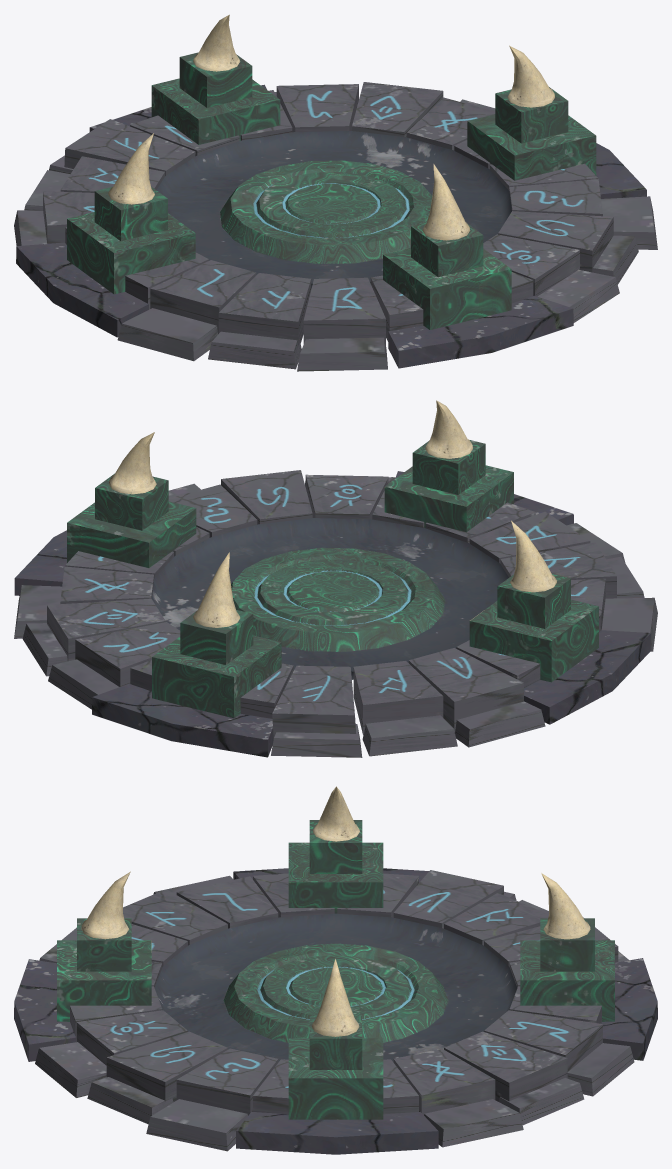
Rendered from quickportal.dae.
3 renders of one model, top to bottom at view 1: azimuth 30°, elevation 25°; view 2: azimuth 150°, elevation 25°; view 3: azimuth 270°, elevation 25°, orthographic.
Visible parts, largest first — view 1: Upper_Bricks1, Bone_Pillars, polySurface31; view 2: Upper_Bricks1, Bone_Pillars, polySurface31; view 3: Upper_Bricks1, Bone_Pillars, polySurface31.
Part boxes in pixels (<box>): Upper_Bricks1: <box>14,82,657,371</box>; Bone_Pillars: <box>16,14,646,368</box>; polySurface31: <box>156,131,511,288</box>; Upper_Bricks1: <box>14,470,657,757</box>; Bone_Pillars: <box>14,400,651,757</box>; polySurface31: <box>151,518,508,679</box>; Upper_Bricks1: <box>35,870,634,1151</box>; Bone_Pillars: <box>14,786,657,1154</box>; polySurface31: <box>154,913,517,1062</box>.
Size of the model in its own units: 0.0207 by 0.0207 by 0.00532.
